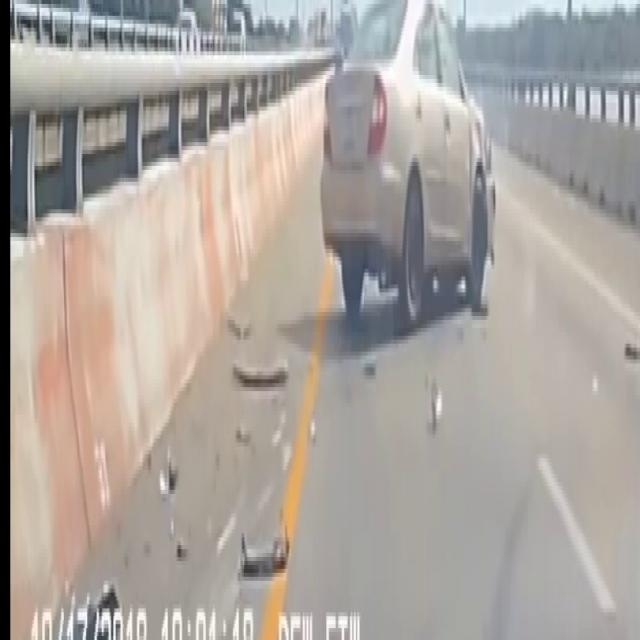accident: (306, 0, 506, 361)
